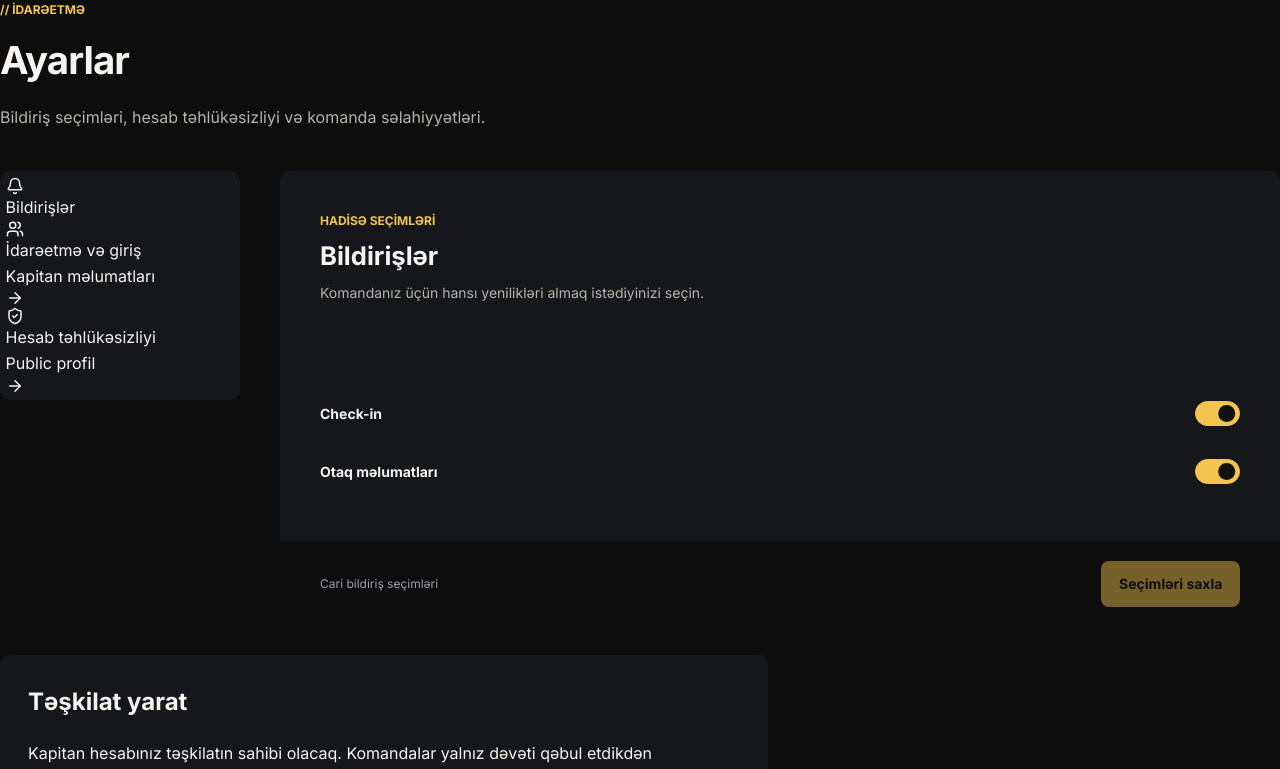
Test: workspace acknowledged persistence and authority › uses the existing preference contract and preserves channel values
The width and height of the screenshot is (1280, 769).
Step 1. Click the switch labelled "Check-in" → (351, 413), box top-left (320, 401), bottom-right (1240, 426)
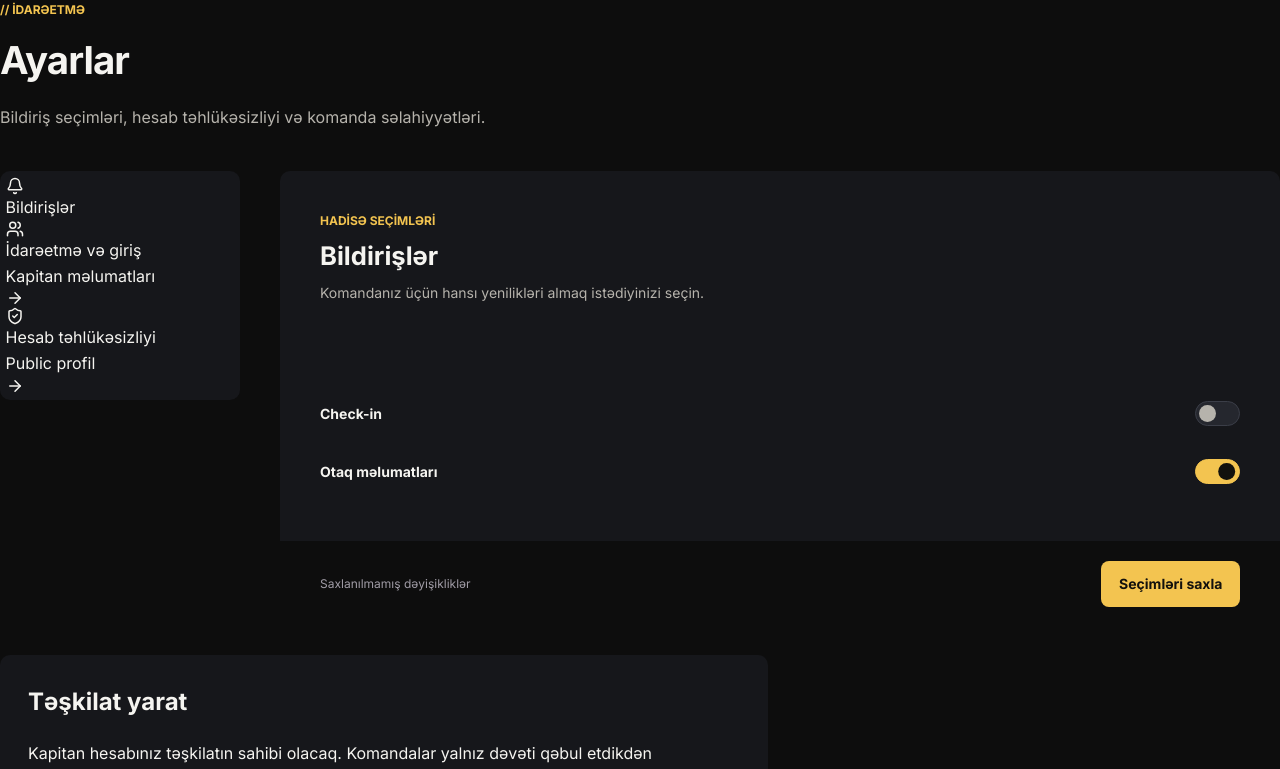
Step 2. Click the button "Seçimləri saxla" → (1171, 584), box top-left (1102, 561), bottom-right (1240, 607)
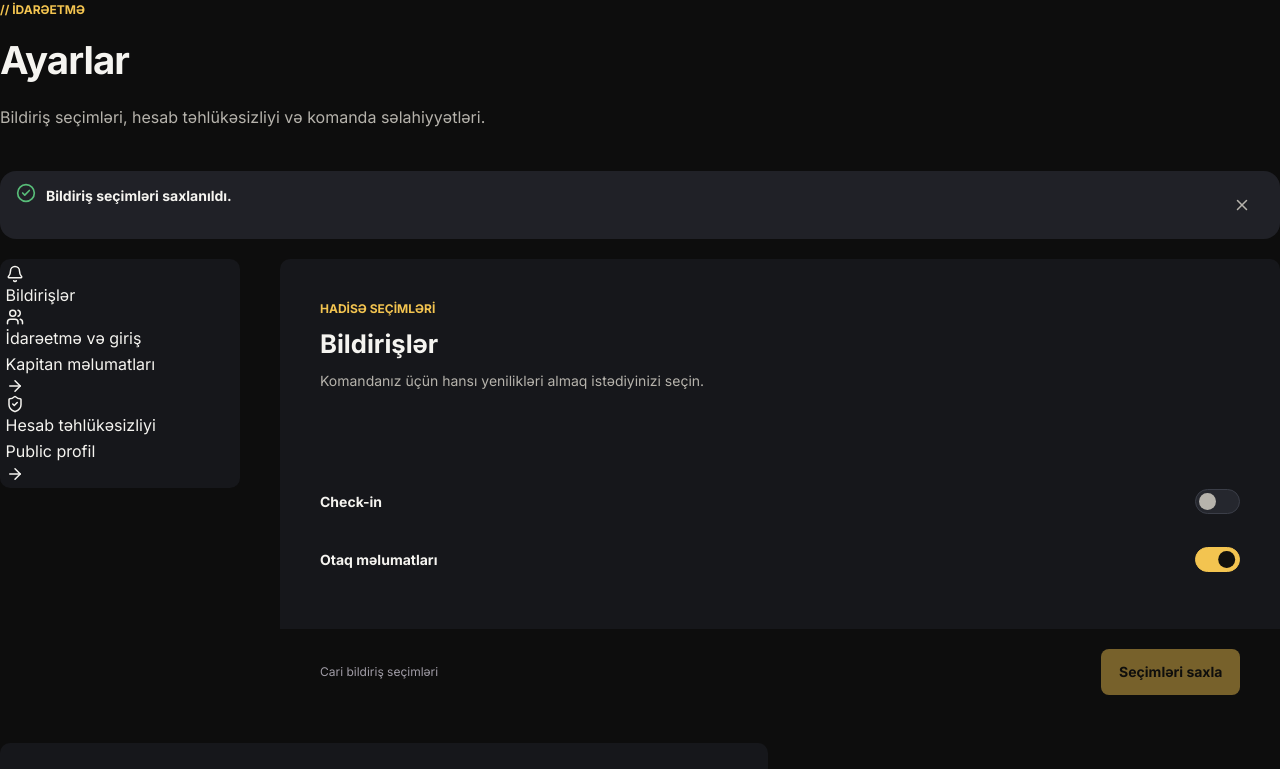
Result: the message shows "saxlanıldı" at top-left (46, 187), bottom-right (232, 204)
